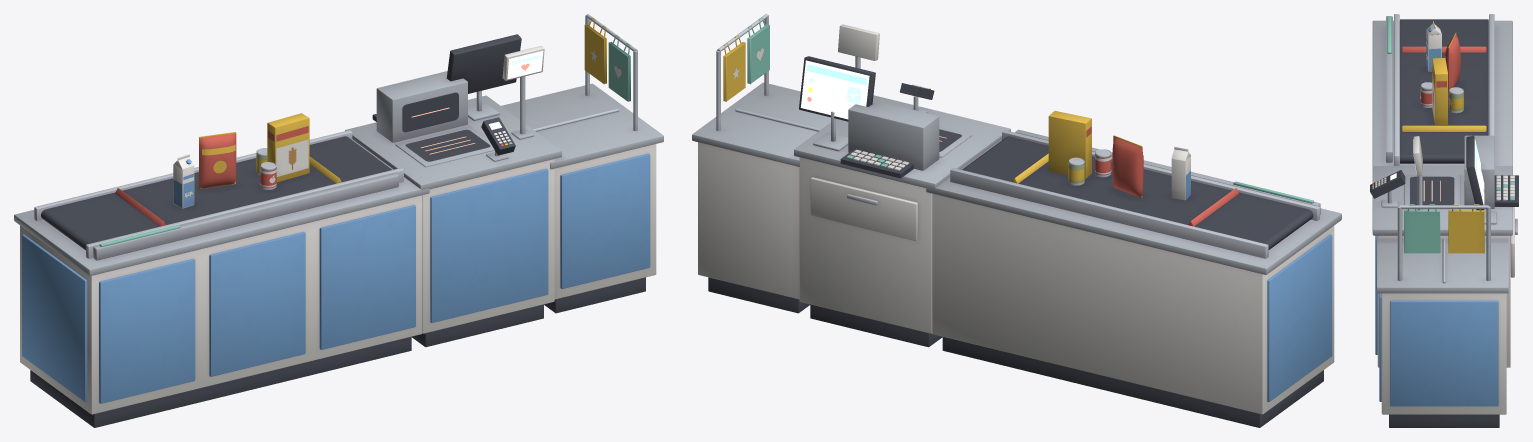
File: checkout-counter.glb
The picture shows the model from 3 angles, left to right: view 1: azimuth 30°, elevation 25°; view 2: azimuth 150°, elevation 25°; view 3: azimuth 270°, elevation 25°; orthographic projection. The views are drawn at different scales.
Visible parts, largest first — view 1: checkout-counter_body, checkout-counter_pos_screen; view 2: checkout-counter_body, checkout-counter_pos_screen; view 3: checkout-counter_body, checkout-counter_pos_screen.
Boxes of the visible parts, x1,y1,x2,y2 form: checkout-counter_body: [14, 14, 663, 427]; checkout-counter_pos_screen: [488, 50, 543, 129]; checkout-counter_body: [692, 14, 1341, 427]; checkout-counter_pos_screen: [800, 60, 869, 119]; checkout-counter_body: [1370, 14, 1518, 427]; checkout-counter_pos_screen: [1390, 138, 1484, 204].
Bounding box in the file's own units: 3.05 × 1.29 × 0.7381.
10 materials, 1 textured.
